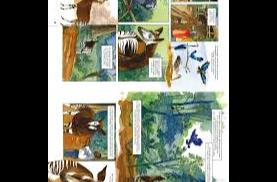Non_Gorille: (47, 0, 194, 182)
